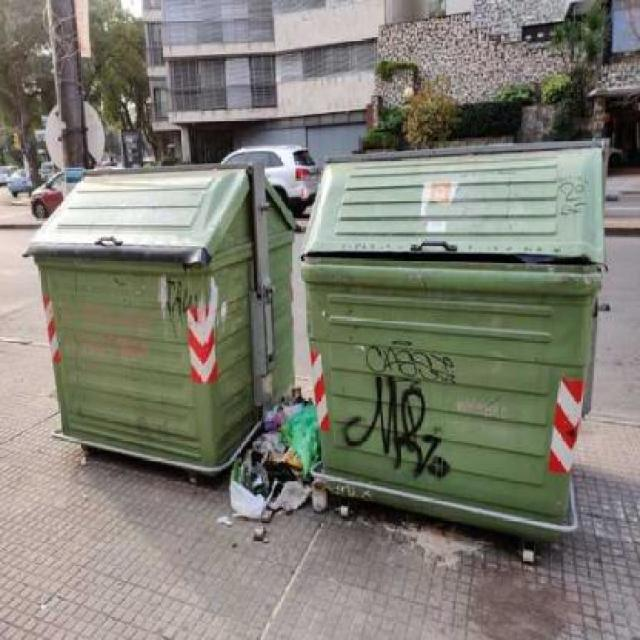garbage: (223, 405, 289, 529), (278, 378, 320, 514)
